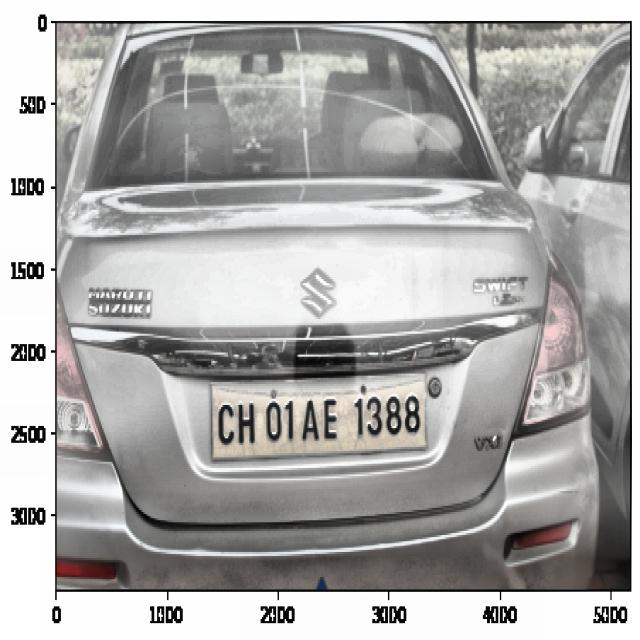license_plate: (205, 385, 424, 463)
